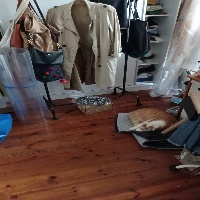asleep: (129, 108, 177, 131)
